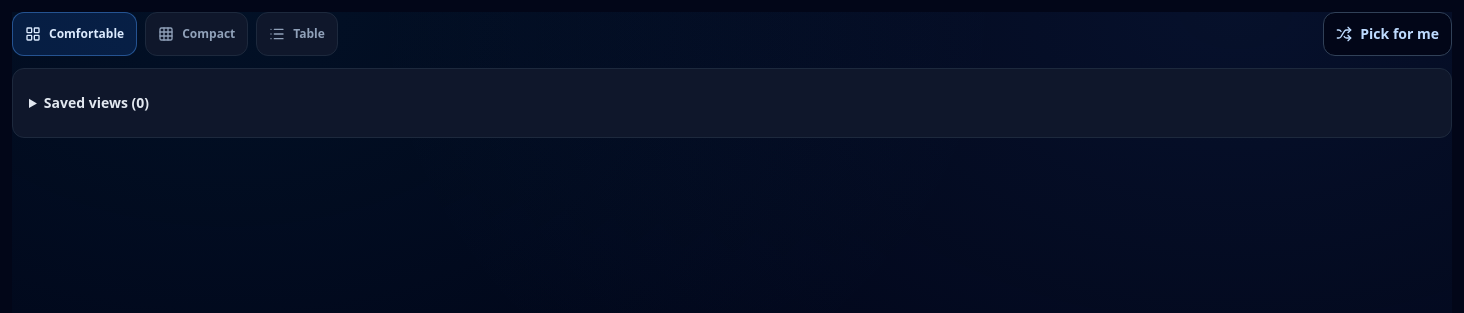
Test case: saved view controls › hides saving controls for guests and handles blocked storage in memory
Click the heading "Saved views (0)" at (96, 102), box [44, 93, 149, 112]
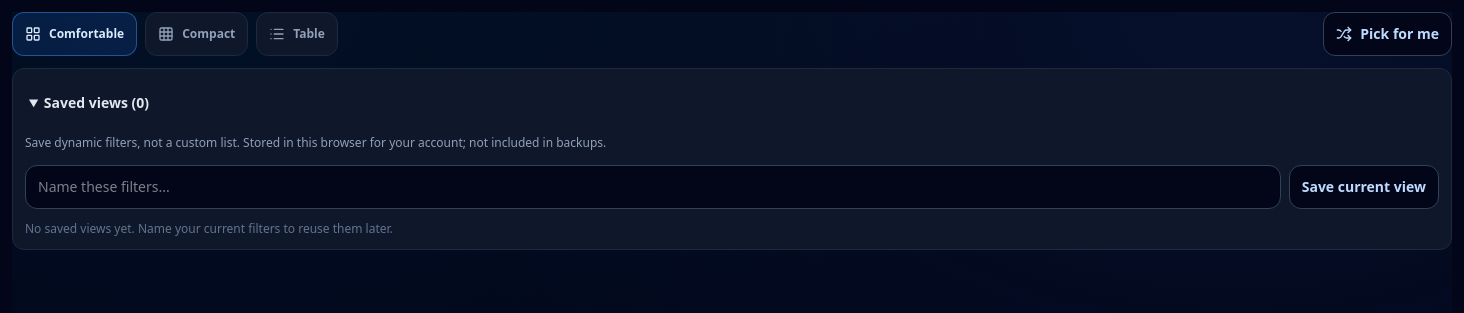
Type "Session view" into the field named "Saved view name" at (653, 187), box [25, 165, 1281, 209]
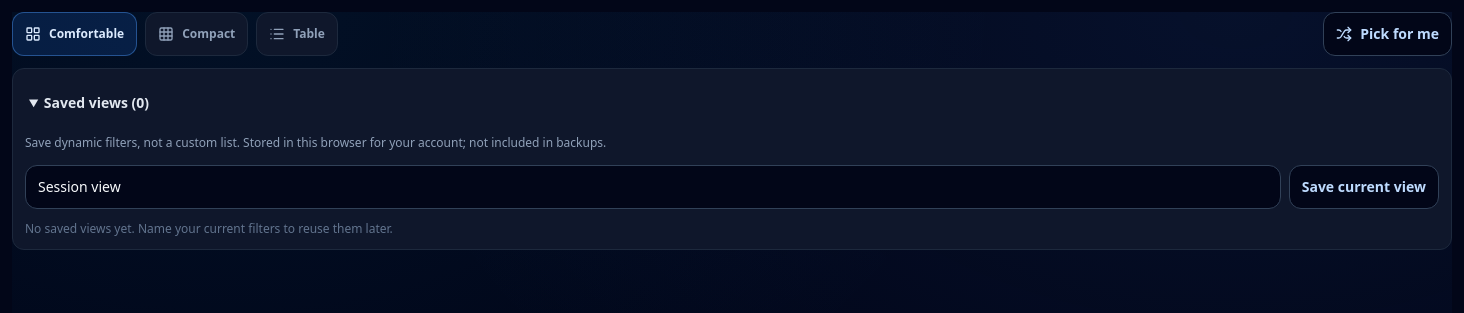
Click the button "Save current view" at (1364, 187), box [1289, 165, 1439, 209]
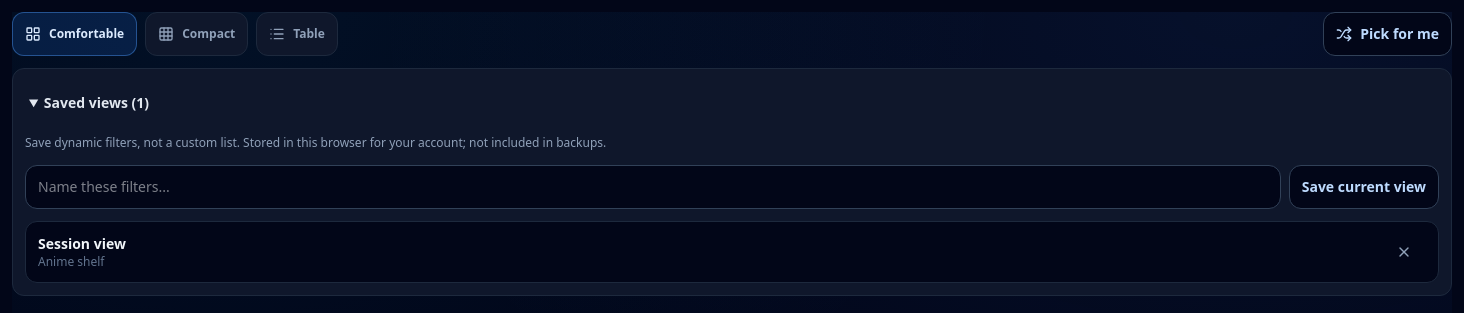
Expected: the link "Session view Anime shelf" is shown, [38, 234, 126, 270]
